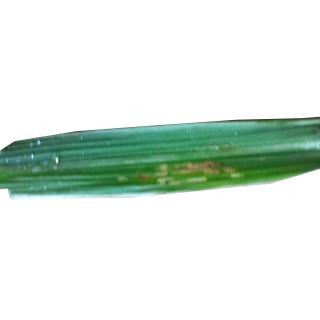Hawar-Daun: (188, 148, 240, 182), (128, 162, 155, 192)
